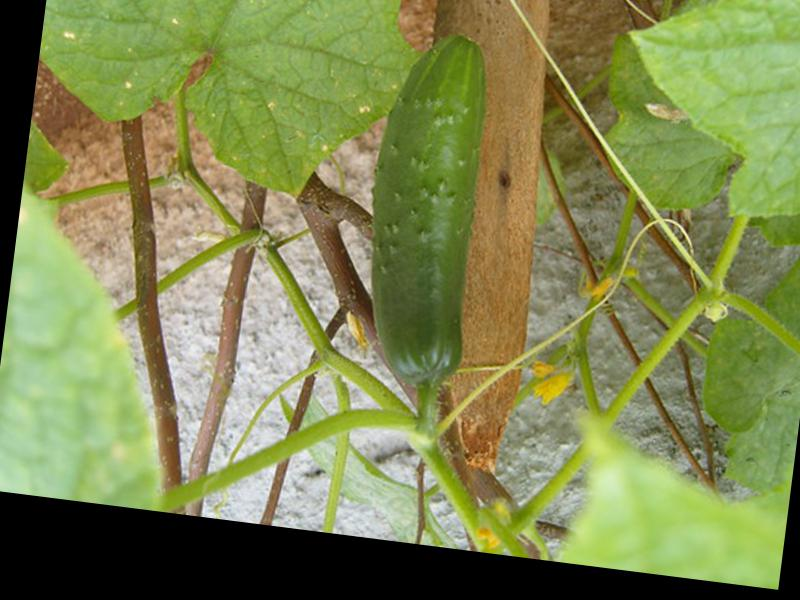Cucumber: (349, 26, 503, 392)
